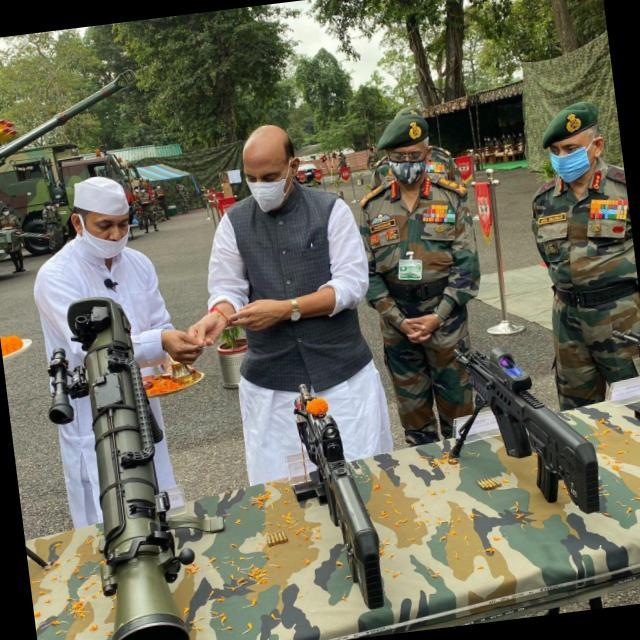rocket: (37, 288, 231, 640)
